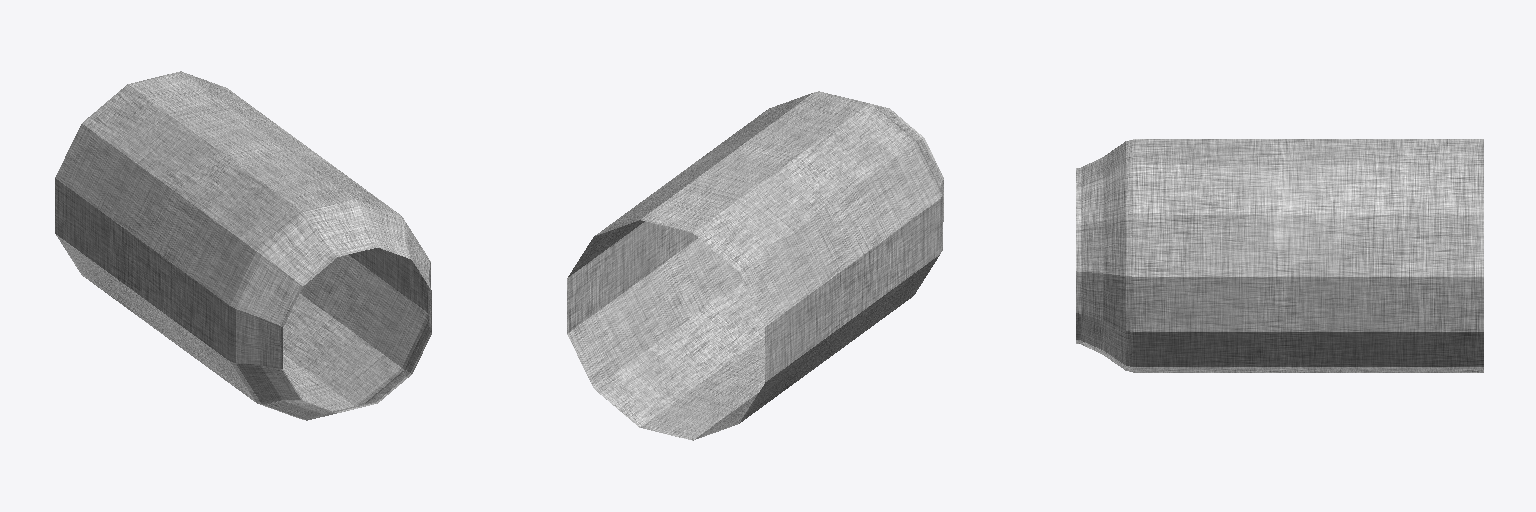
3 renders of one model, left to right at view 1: azimuth 30°, elevation 25°; view 2: azimuth 150°, elevation 25°; view 3: azimuth 270°, elevation 25°, orthographic.
Bounding box in the file's own units: 0.5168 × 0.5168 × 0.9183.
1 materials, 1 textured.